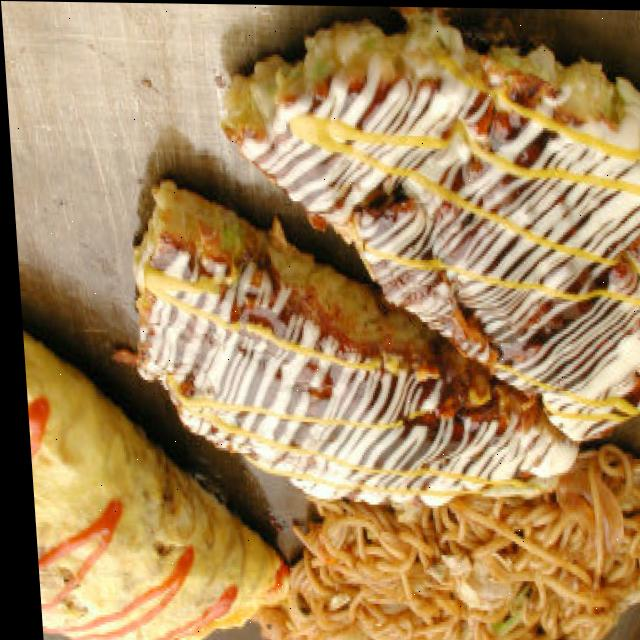蛋糕甜品: (108, 6, 640, 516)
